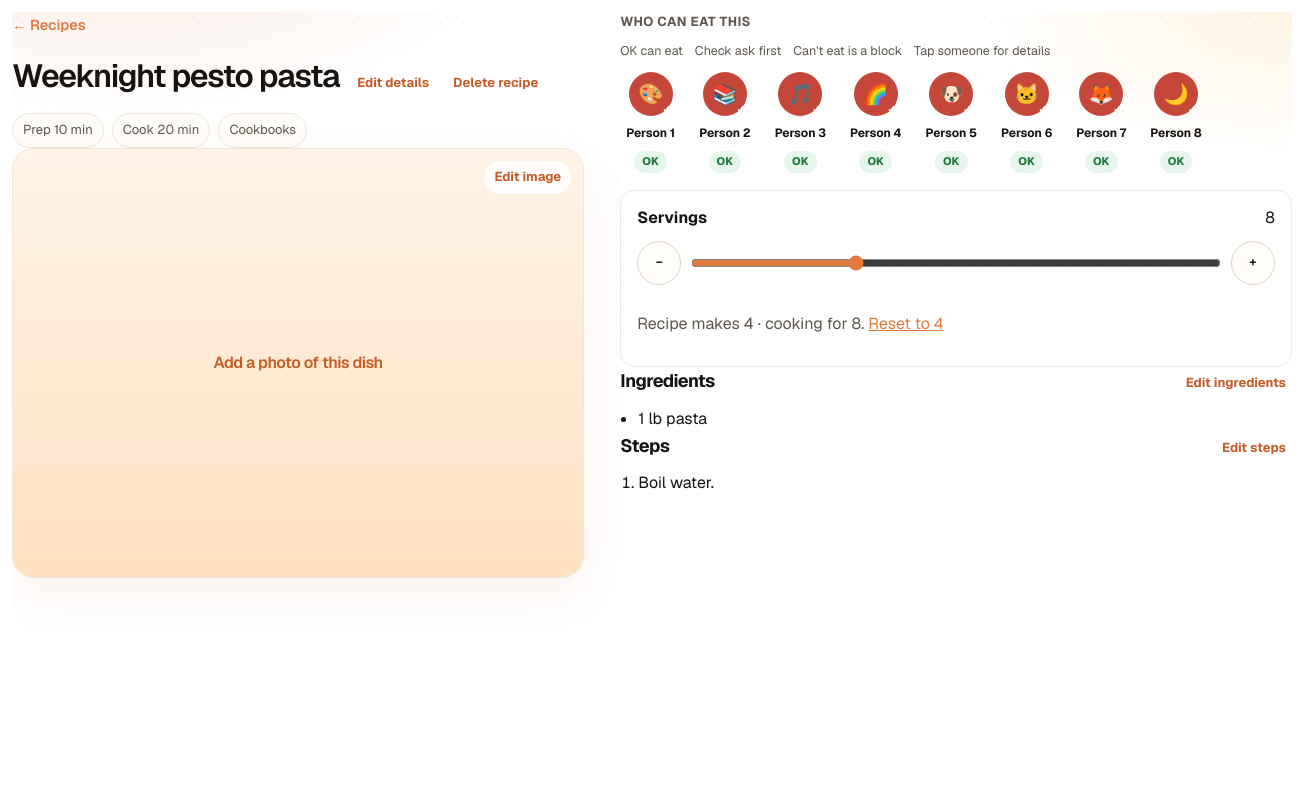
RecipeDetail default servings › opens a 4-serving recipe at family size and can reset to the card yield
Expected: the element with test id "scaled-servings-note" shows "Recipe makes 4 · cooking for 8", [637,313,861,334]
Click the button "Reset to 4" at (906, 323), box [868,311,944,336]
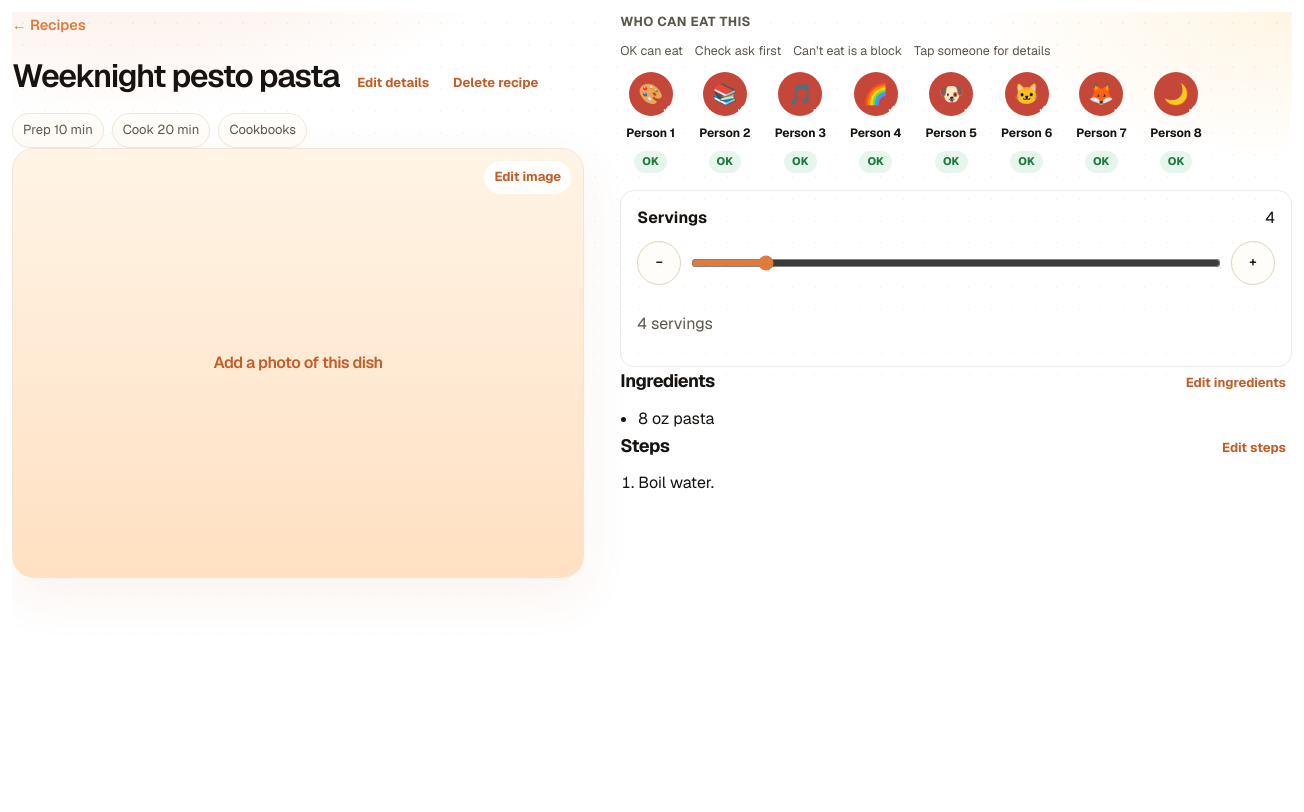
Expected: the text with test id "scaled-servings-note" reads "4 servings", [637,313,713,334]
Expected: the button "Reset to" is gone
